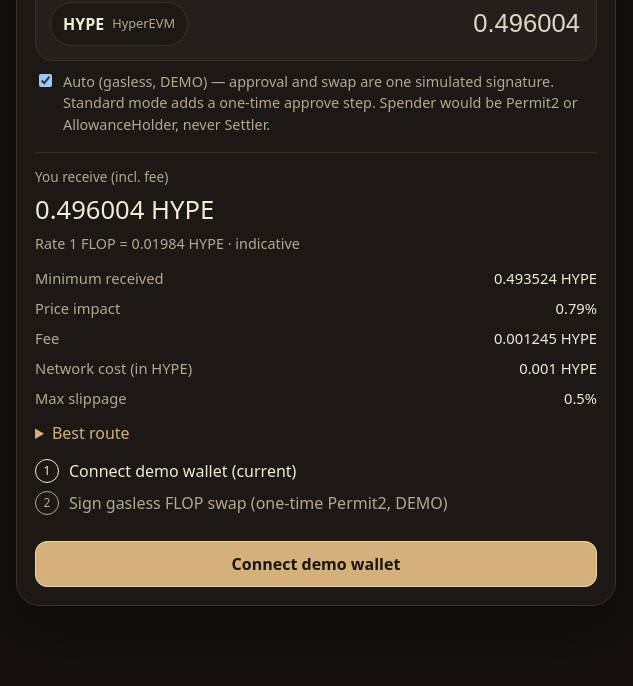
SwapDemo › blocks a swap that is larger than the demo balance
(page scrolled)
Click the button "Connect demo wallet" at (316, 564), box 35,541 -> 597,587
(page scrolled)
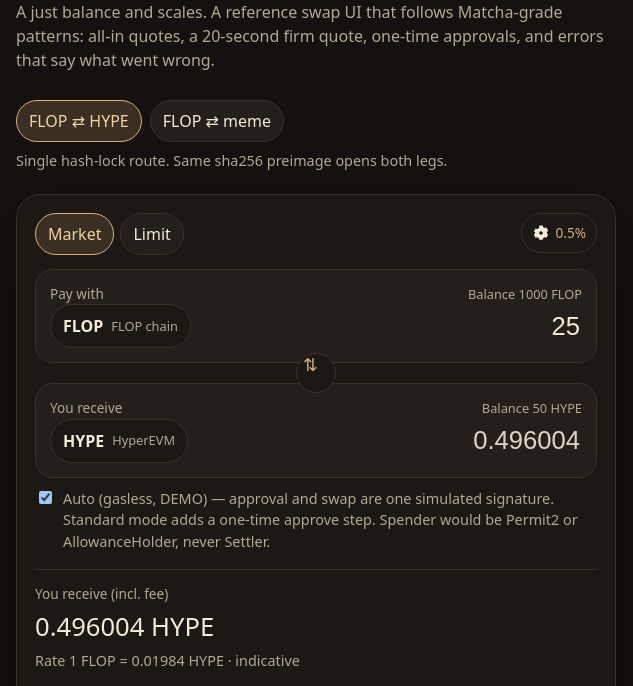
Replace the text in the field named "Pay with amount" with "5000" at (391, 326), box 201,311 -> 582,342
(page scrolled)
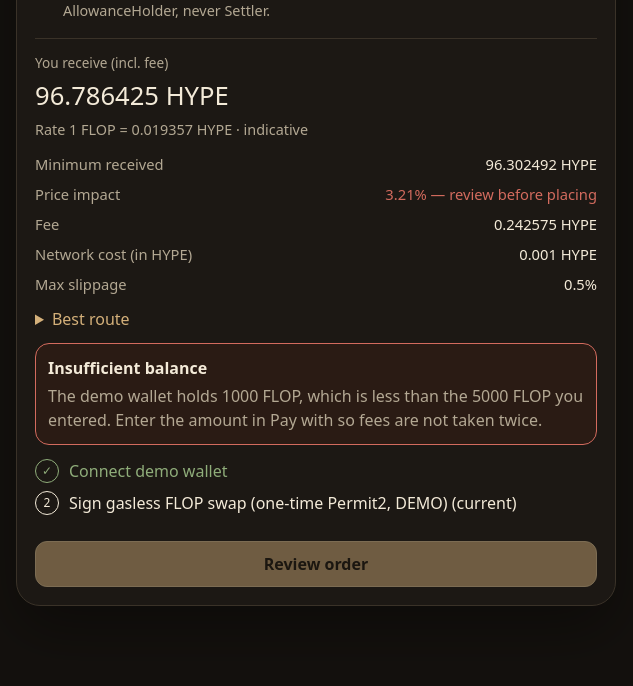
expect the button with test id "primary-action" is disabled: met, box 35,541 -> 597,587
expect the message with test id "error-state" shows "Insufficient balance": met, box 48,357 -> 207,379
